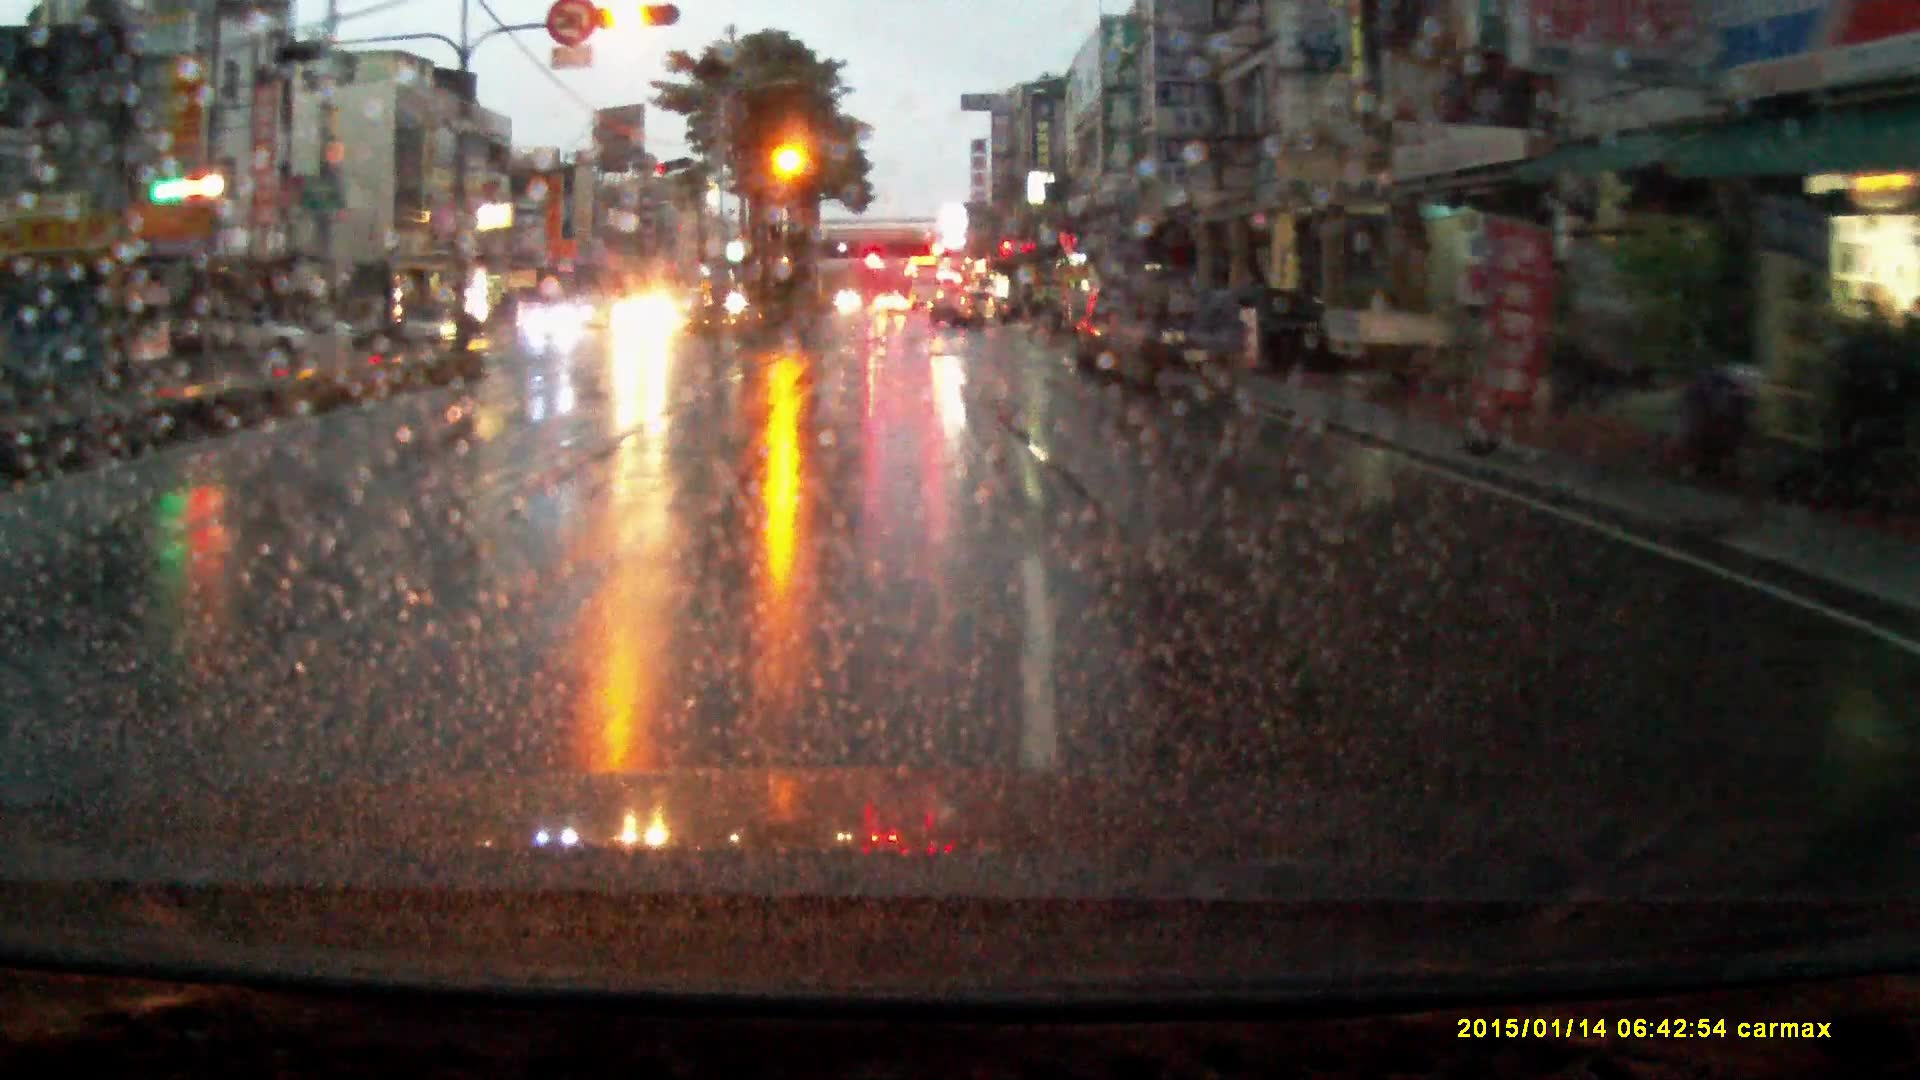vehicle: (1106, 266, 1250, 396), (1327, 309, 1513, 378), (196, 311, 313, 359), (607, 290, 683, 345), (1077, 280, 1116, 376), (291, 313, 371, 353), (931, 284, 998, 330), (402, 302, 465, 345), (527, 301, 589, 343), (911, 264, 945, 309), (874, 293, 913, 318)
